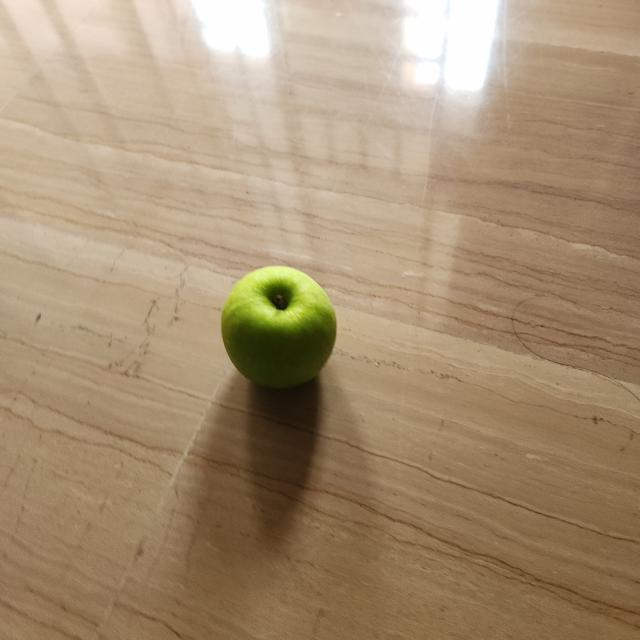apple: (214, 258, 342, 406)
